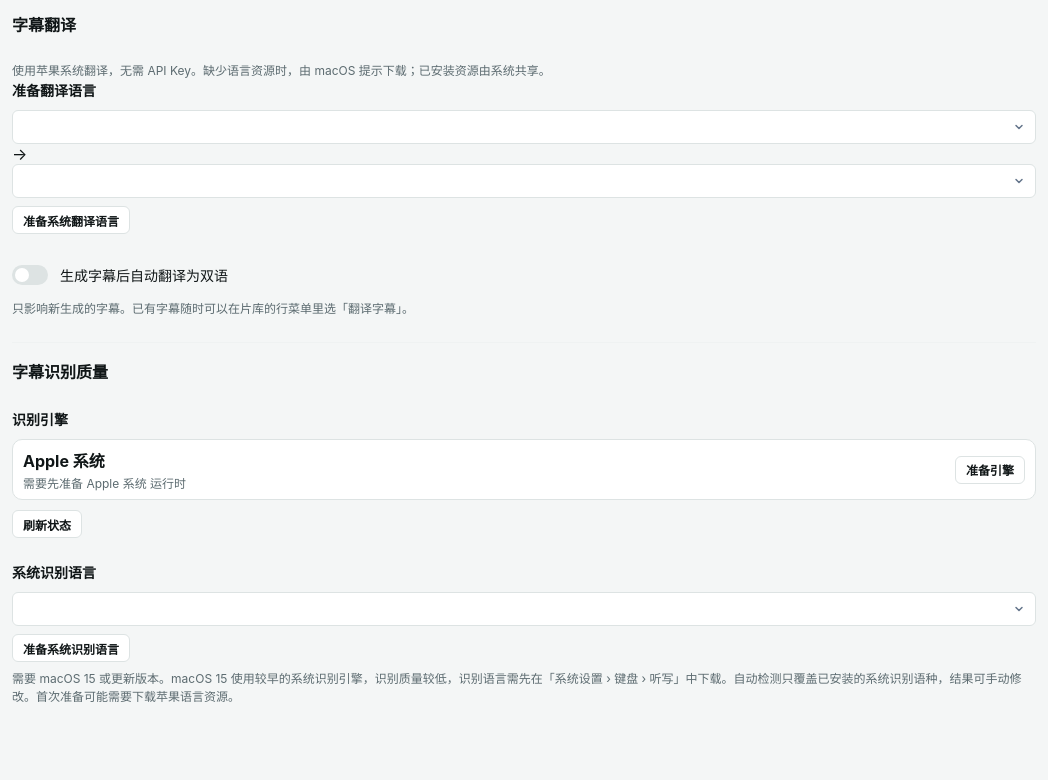
字幕引擎状态与准备（D-PC22） › MEDIA-13 准备失败给出原因，不静默
Click the button with test id "subtitle-engine-prepare-apple".
click(990, 470)  # box [955,456,1025,484]
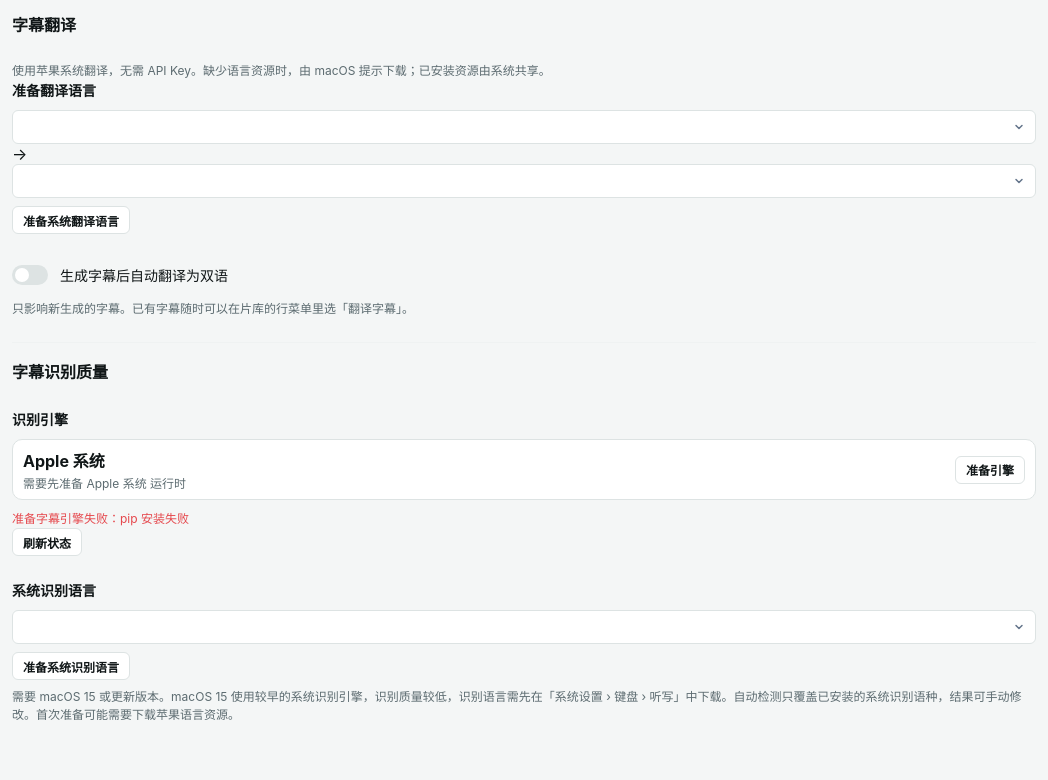
Expected: the text with test id "subtitle-engine-message" reads "准备字幕引擎失败：pip 安装失败", [12,511,189,526]
